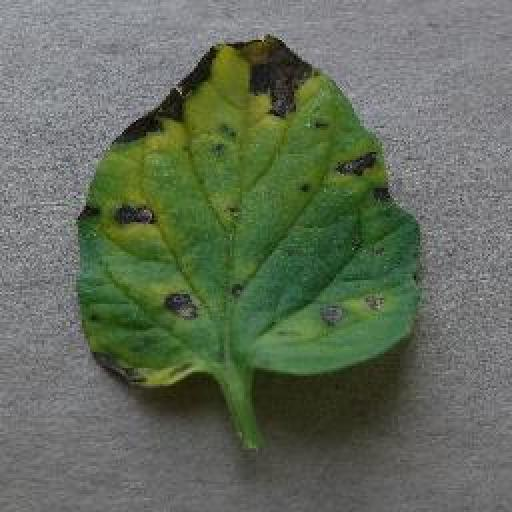Early Blight: (79, 32, 427, 395)
